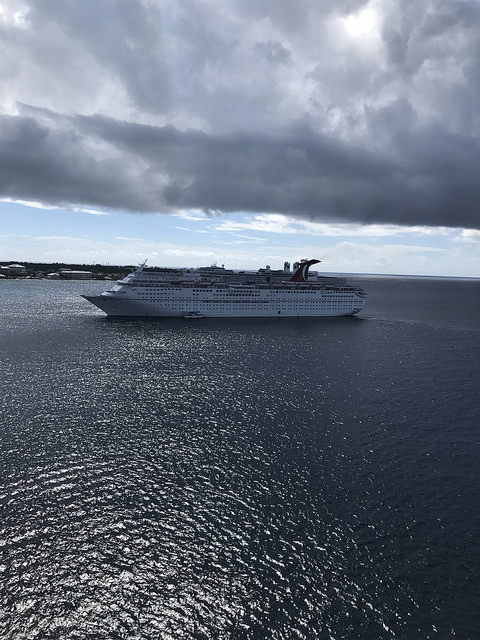cruise_ship: (78, 256, 364, 319)
